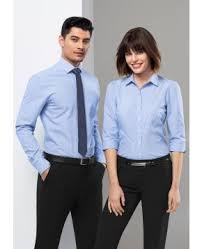F_W_pants: (95, 152, 178, 249)
F_belt: (40, 147, 99, 169), (114, 154, 177, 169)
F_dress pants: (33, 151, 109, 249)
F_shirt: (11, 55, 110, 168), (97, 66, 188, 170)
F_tie: (63, 60, 90, 157)
